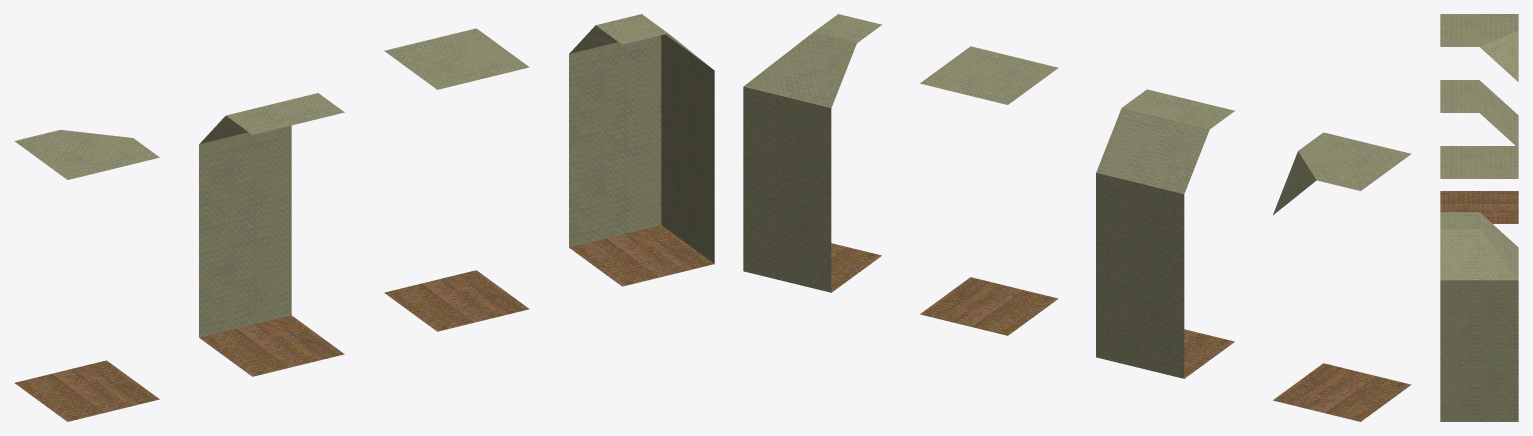
The model's file is dorm_tileset.gltf.
3 views of the same model, side by side, from view 1: azimuth 30°, elevation 25°; view 2: azimuth 150°, elevation 25°; view 3: azimuth 270°, elevation 25° (orthographic). The views are drawn at different scales.
Parts seen in each view (by area): view 1: dorm-corner-in, dorm-wall, dorm-floor, dorm-corner-out; view 2: dorm-wall, dorm-corner-in, dorm-corner-out, dorm-floor; view 3: dorm-corner-in, dorm-corner-out, dorm-wall, dorm-floor.
Boxes of the visible parts, x1,y1,x2,y2 form: dorm-corner-in: (569, 14, 714, 286); dorm-wall: (199, 93, 344, 376); dorm-floor: (384, 28, 529, 331); dorm-corner-out: (14, 130, 159, 421); dorm-wall: (1096, 89, 1234, 378); dorm-corner-in: (743, 14, 881, 292); dorm-corner-out: (1273, 132, 1411, 421); dorm-floor: (920, 46, 1058, 335); dorm-corner-in: (1440, 212, 1518, 421); dorm-corner-out: (1440, 14, 1518, 223); dorm-wall: (1440, 80, 1518, 145); dorm-floor: (1440, 146, 1518, 178).
Size of the model in its own units: 7 by 2.5 by 1.
Materials: 1 (1 with a texture image).
